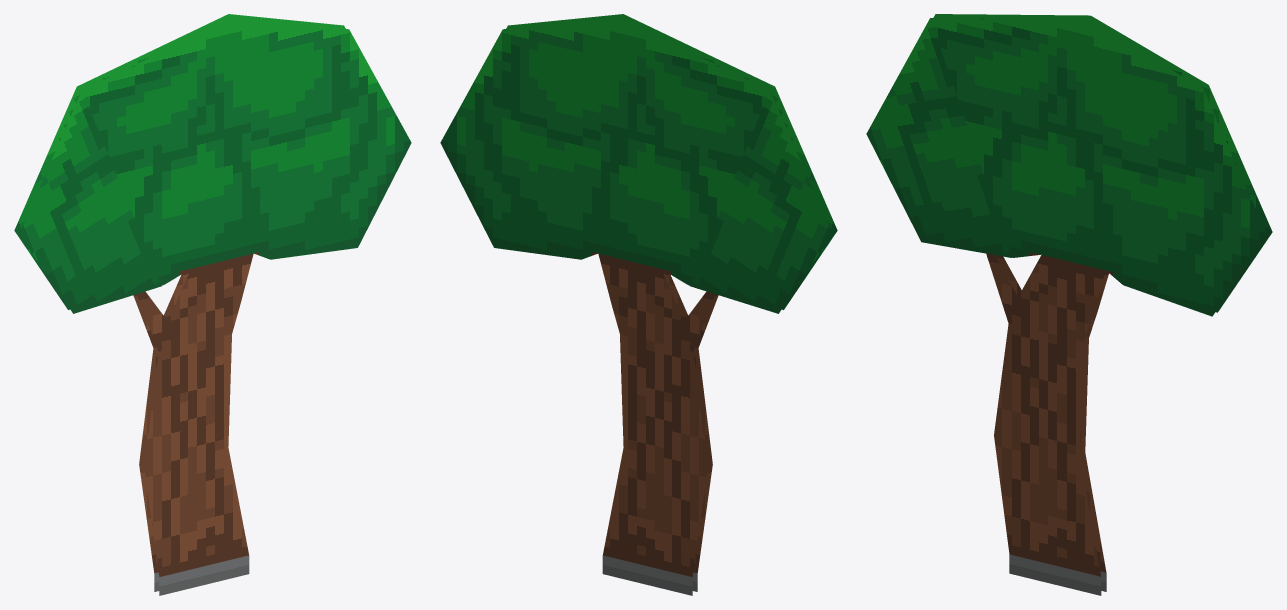
The model's file is Tree.fbx.
The picture shows the model from 3 angles, left to right: view 1: azimuth 30°, elevation 25°; view 2: azimuth 150°, elevation 25°; view 3: azimuth 330°, elevation 25°; orthographic projection. The views are drawn at different scales.
Parts seen in each view (by area): view 1: plane_1, plane; view 2: plane, plane_1; view 3: plane_1, plane.
Part boxes in pixels (x1,y1,x2,y2): plane_1: (19,18,411,595); plane: (14,14,345,591); plane: (440,18,832,595); plane_1: (506,14,837,591); plane_1: (866,18,1266,595); plane: (933,14,1272,591).
Bounding box in the file's own units: 137 × 186 × 3.13.
Materials: 1 (1 with a texture image).
